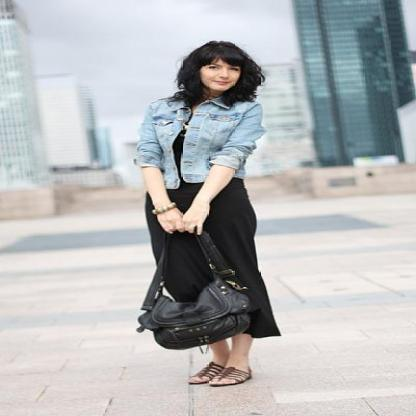bag: (137, 232, 249, 350)
jacket: (127, 96, 266, 188)
shoe: (188, 358, 251, 396)
skirt: (144, 126, 280, 338)
